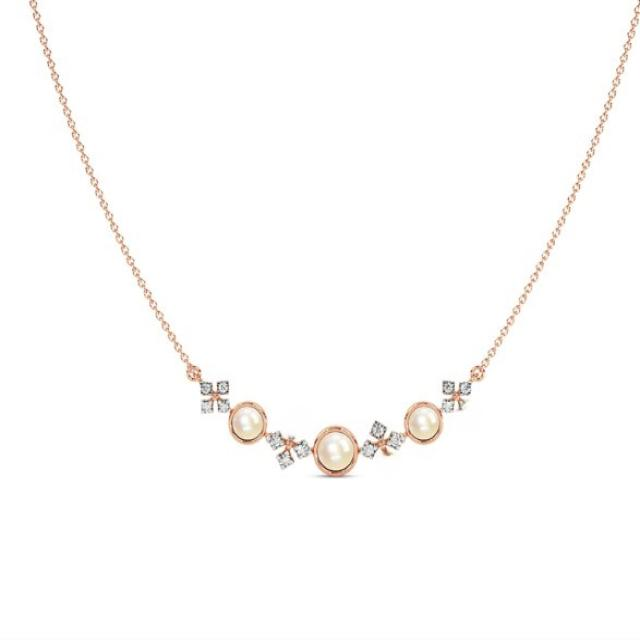missing gem: (376, 454, 399, 475), (285, 417, 300, 438), (456, 400, 472, 412)
